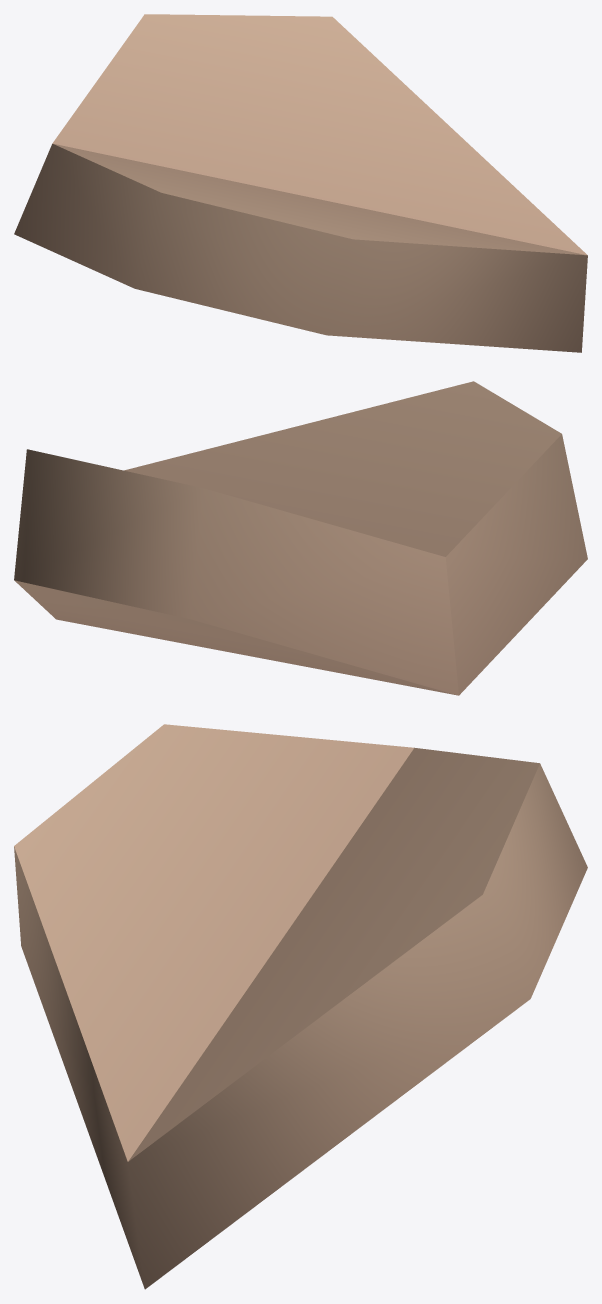
File: (%no-merge) 52.glb
The picture shows the model from 3 angles, top to bottom: view 1: azimuth 30°, elevation 25°; view 2: azimuth 150°, elevation 25°; view 3: azimuth 270°, elevation 25°; orthographic projection. The views are drawn at different scales.
Visible parts, largest first — view 1: (%no-merge) 52; view 2: (%no-merge) 52; view 3: (%no-merge) 52.
Part boxes in pixels (x1,y1,x2,y2): (%no-merge) 52: (14, 14, 587, 352); (%no-merge) 52: (14, 381, 587, 695); (%no-merge) 52: (14, 724, 587, 1289).
Bounding box in the file's own units: 0.13 × 0.0808 × 0.1172.
